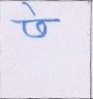e_matra: (22, 2, 38, 18)
